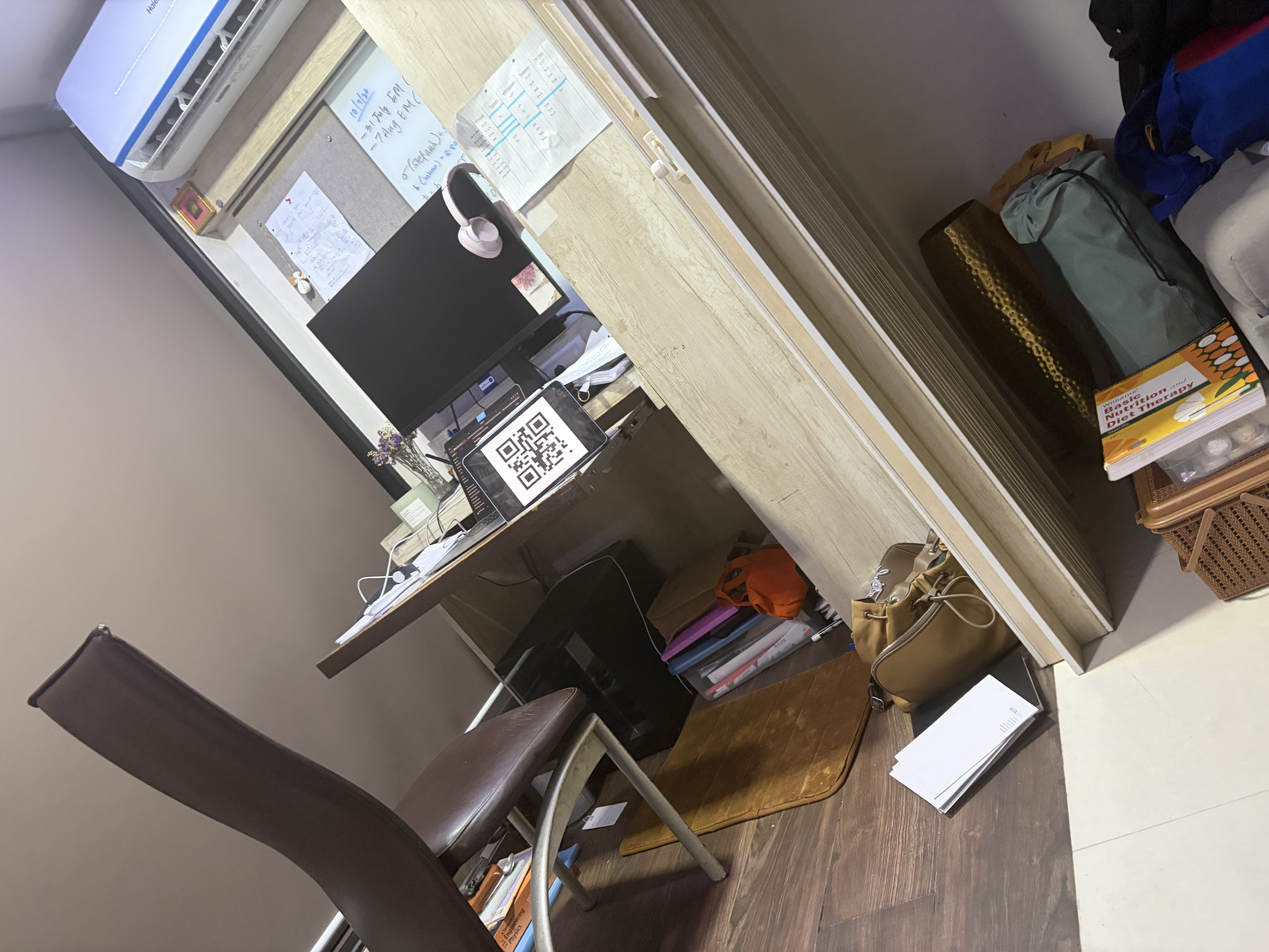QR: (484, 414, 584, 492)
